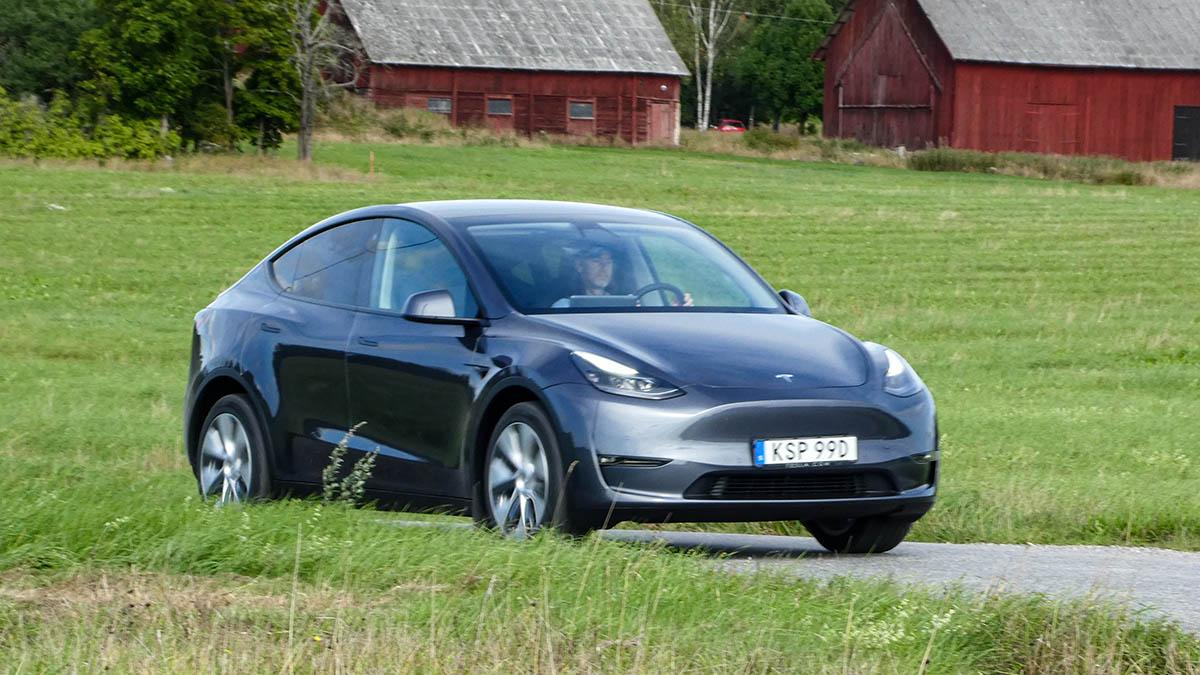license-plates: (749, 436, 859, 468)
